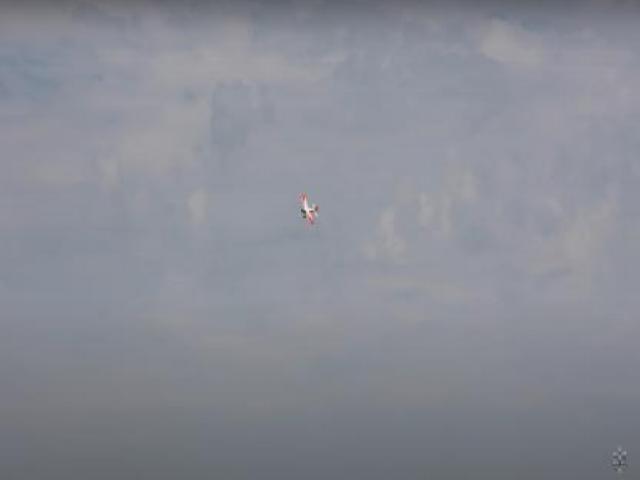uav: (295, 188, 320, 227)
